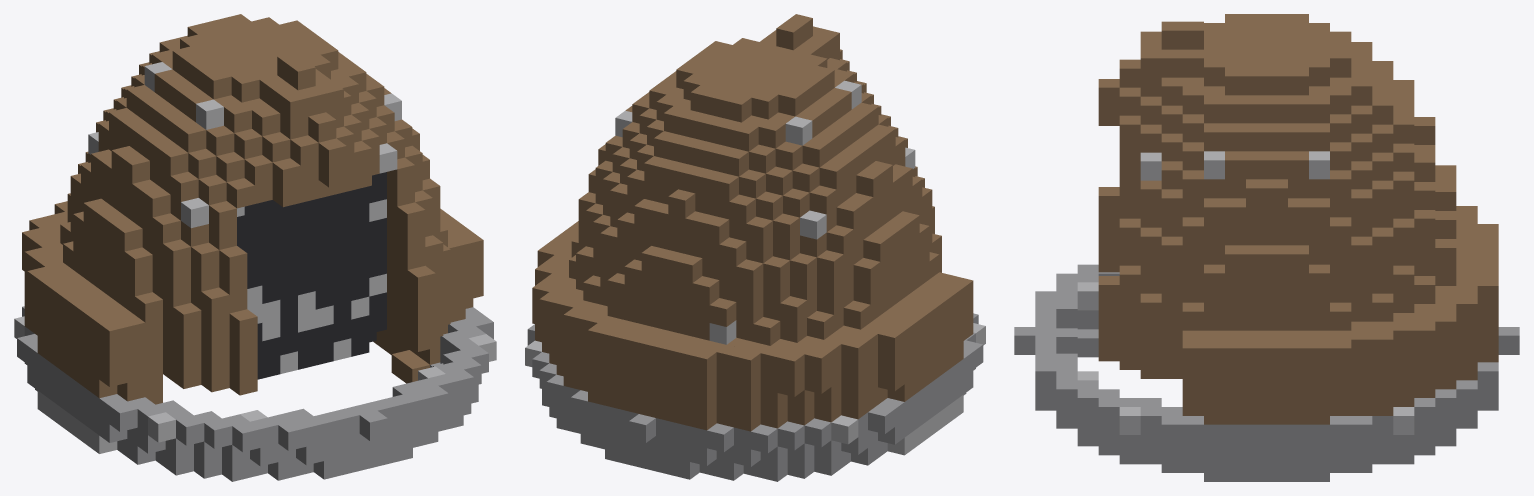
The model's file is cloth_common_helmet_lod1.glb.
3 renders of one model, left to right at view 1: azimuth 30°, elevation 25°; view 2: azimuth 150°, elevation 25°; view 3: azimuth 270°, elevation 25°, orthographic. The views are drawn at different scales.
Visible parts, largest first — view 1: cloth_common_helmet_lod1; view 2: cloth_common_helmet_lod1; view 3: cloth_common_helmet_lod1.
Part boxes in pixels (x1=…): cloth_common_helmet_lod1: x1=14, y1=14, x2=496, y2=481; cloth_common_helmet_lod1: x1=525, y1=14, x2=985, y2=481; cloth_common_helmet_lod1: x1=1014, y1=14, x2=1519, y2=481.
Size of the model in its own units: 0.504 by 0.456 by 0.576.
